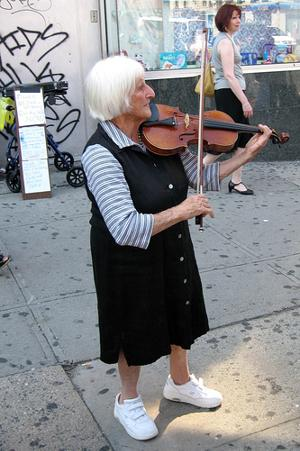person: (82, 55, 271, 442)
